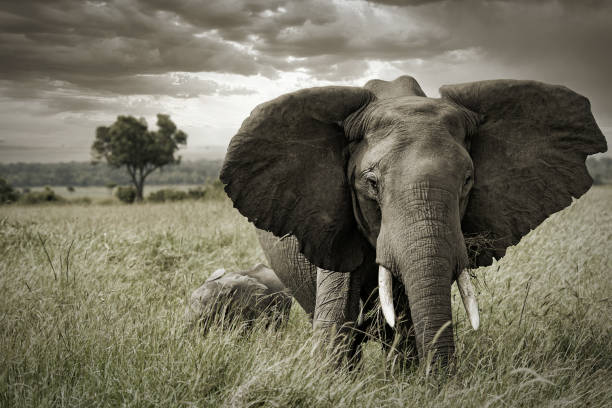africanelephant: (323, 90, 492, 342)
